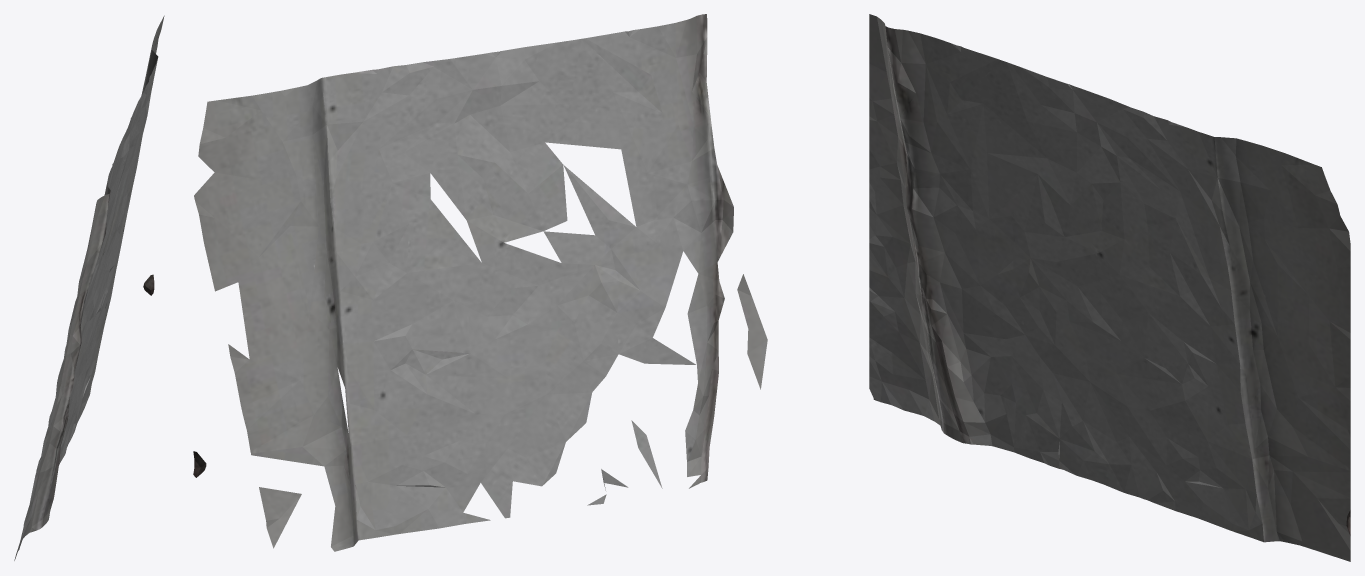
The picture shows the model from 3 angles, left to right: view 1: azimuth 30°, elevation 25°; view 2: azimuth 150°, elevation 25°; view 3: azimuth 270°, elevation 25°; orthographic projection. The views are drawn at different scales.
Bounding box in the file's own units: 0.8374 × 0.8373 × 0.8373.
Materials: 3 (3 with a texture image).
